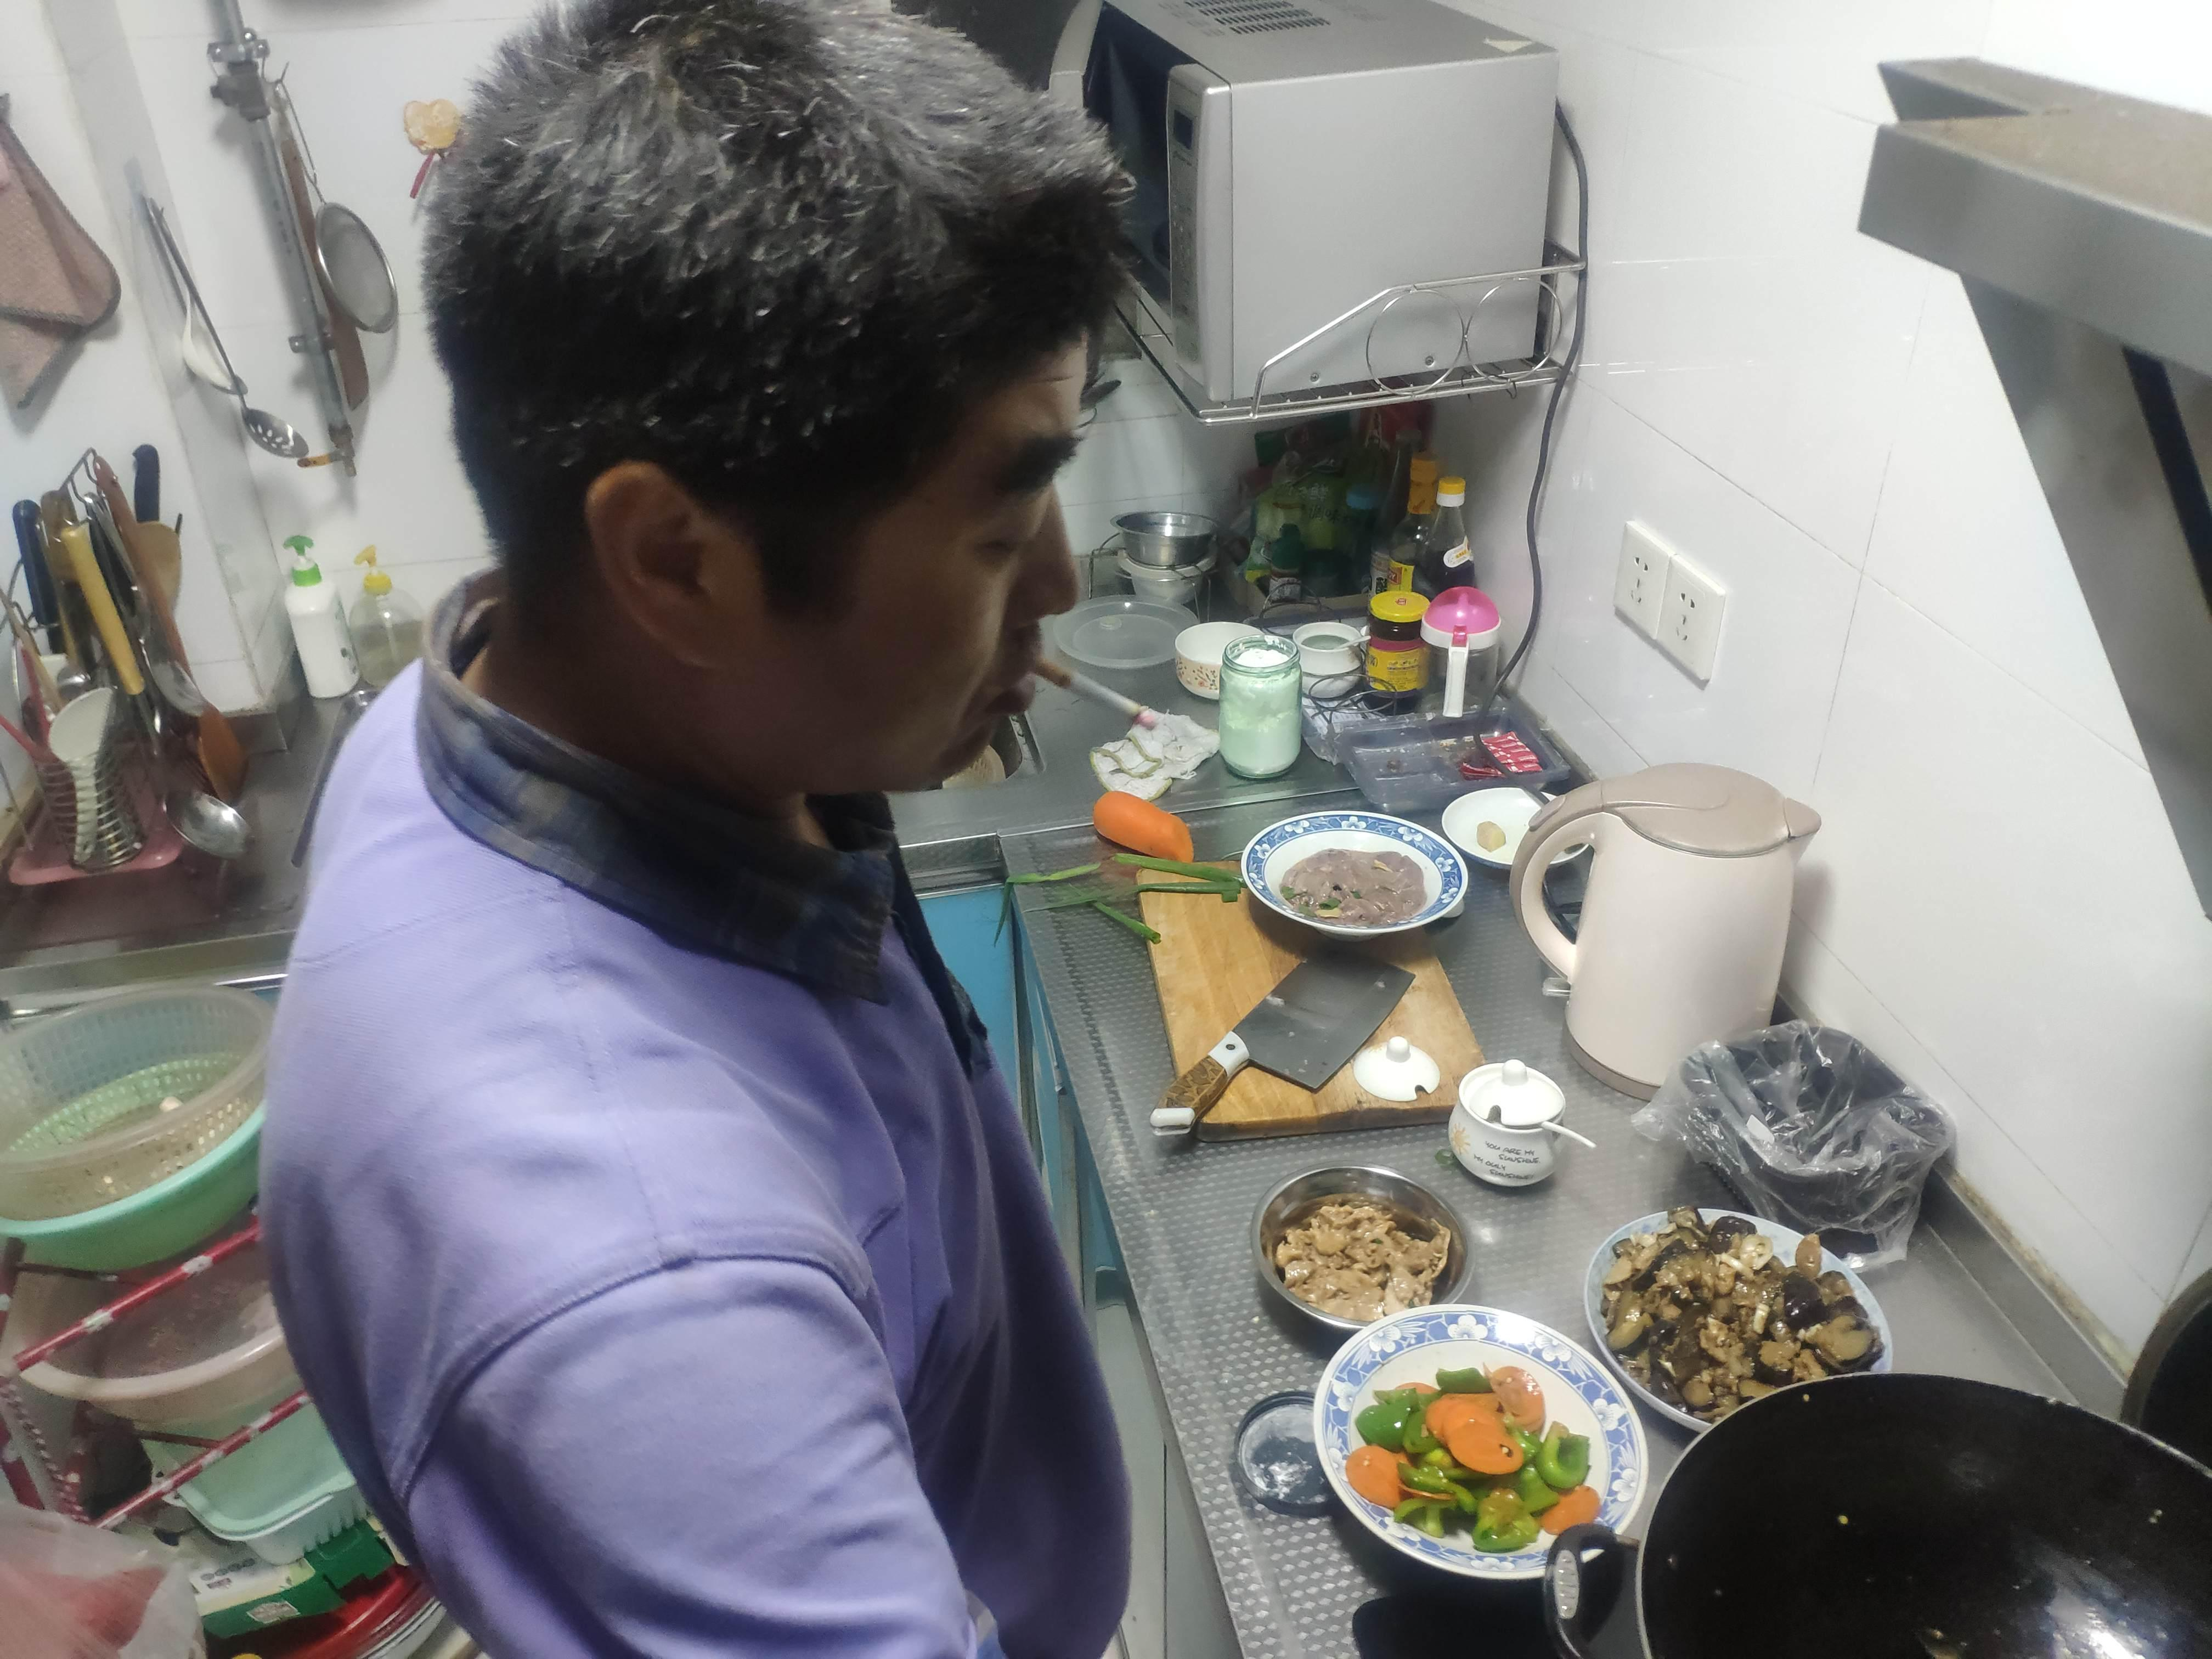smoke: (1033, 657, 1157, 732)
